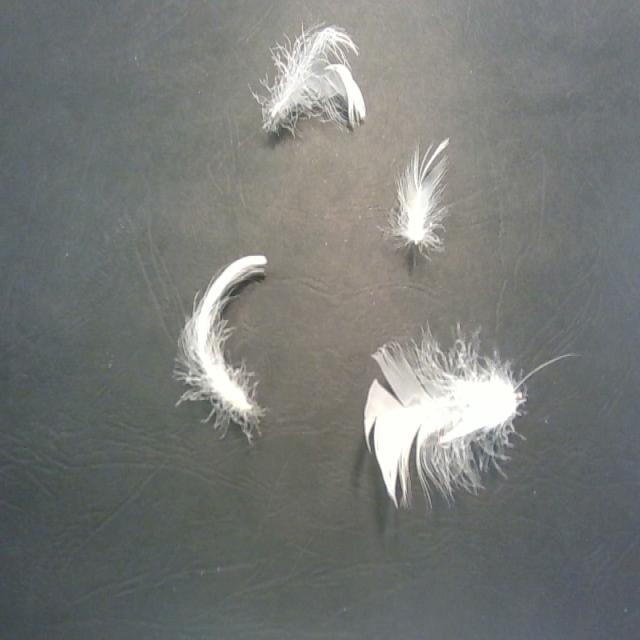feather: (358, 319, 538, 509), (168, 250, 272, 447), (252, 16, 364, 143), (381, 131, 454, 253)
